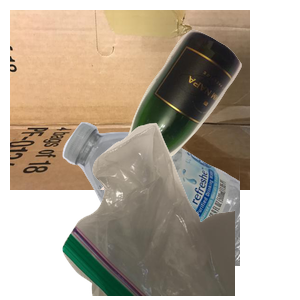cardboard: (10, 10, 250, 190)
glass: (87, 27, 300, 207)
plastic: (60, 120, 300, 300)
trash: (60, 120, 300, 300)
